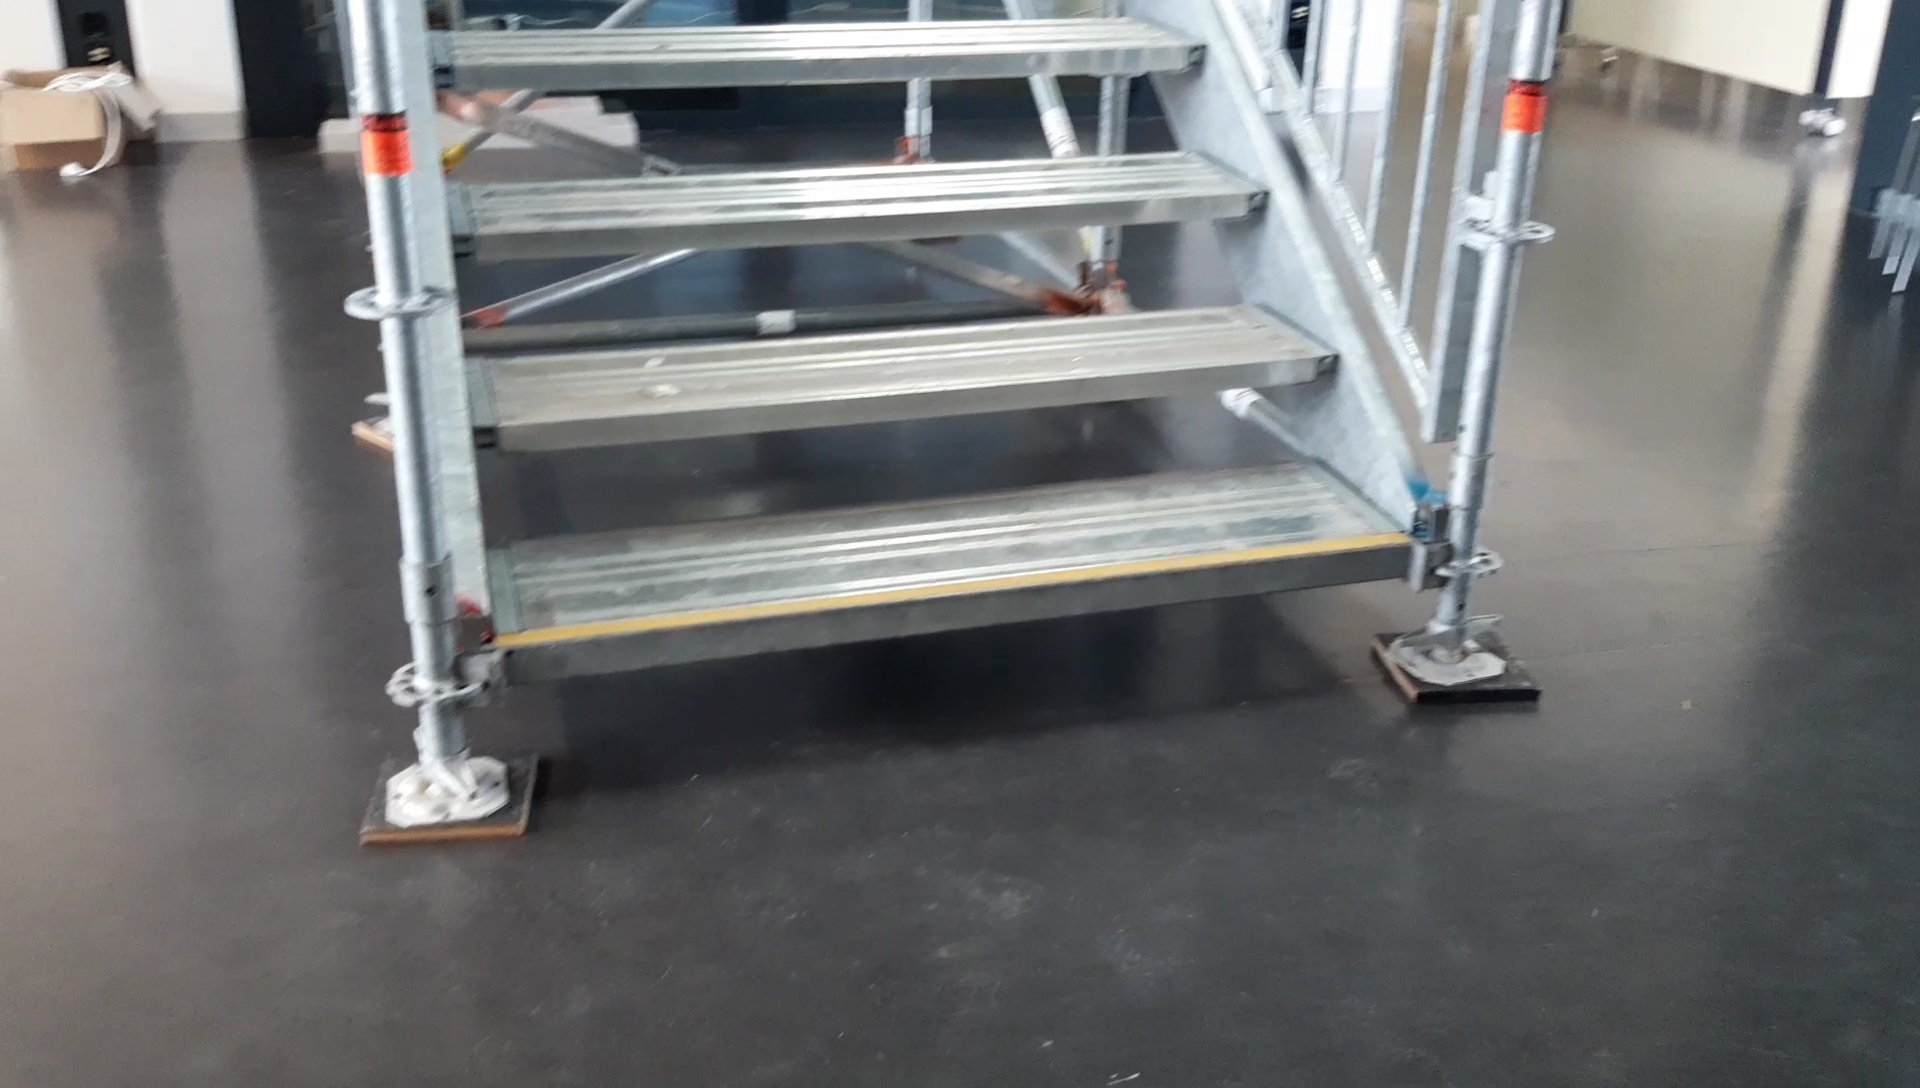edge: (505, 541, 1414, 680), (473, 351, 1336, 448), (455, 187, 1273, 258), (433, 41, 1208, 88)
stairs: (355, 3, 1542, 839)
